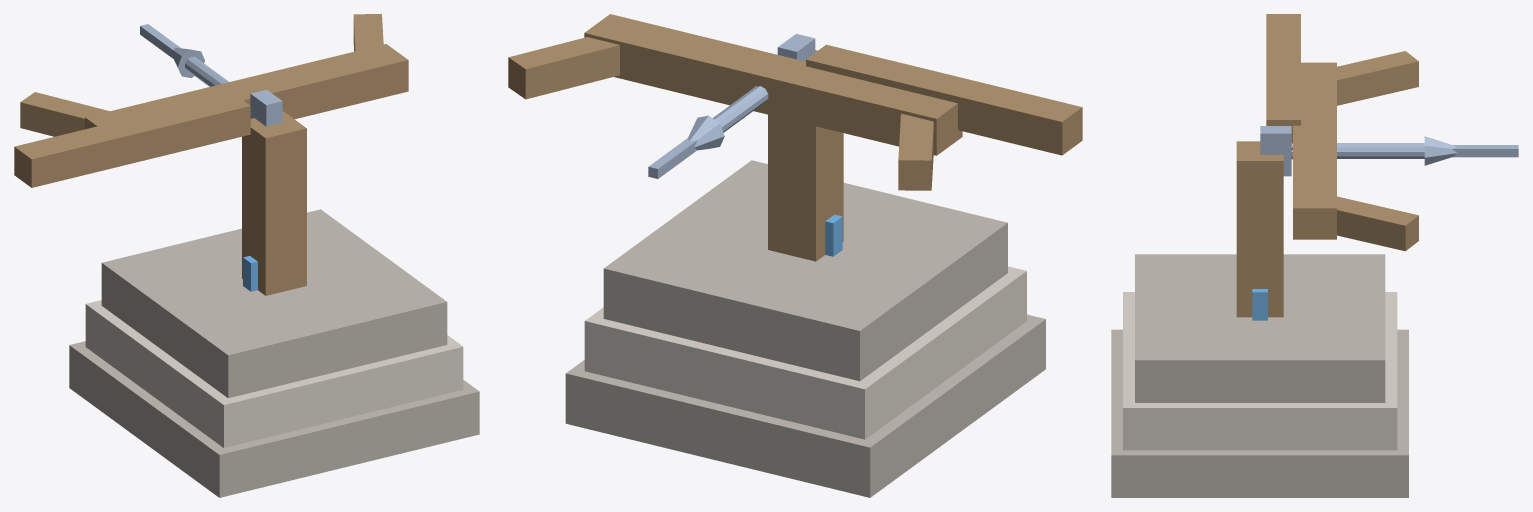
File: x_bow.glb
3 renders of one model, left to right at view 1: azimuth 30°, elevation 25°; view 2: azimuth 150°, elevation 25°; view 3: azimuth 270°, elevation 25°, orthographic. The views are drawn at different scales.
Visible parts, largest first — view 1: x_bow; view 2: x_bow; view 3: x_bow.
Boxes of the visible parts, <box> form: x_bow: <box>14,14,479,497</box>; x_bow: <box>508,14,1082,497</box>; x_bow: <box>1111,14,1518,497</box>.
Bounding box in the file's own units: 3.07 × 2.15 × 2.6.
